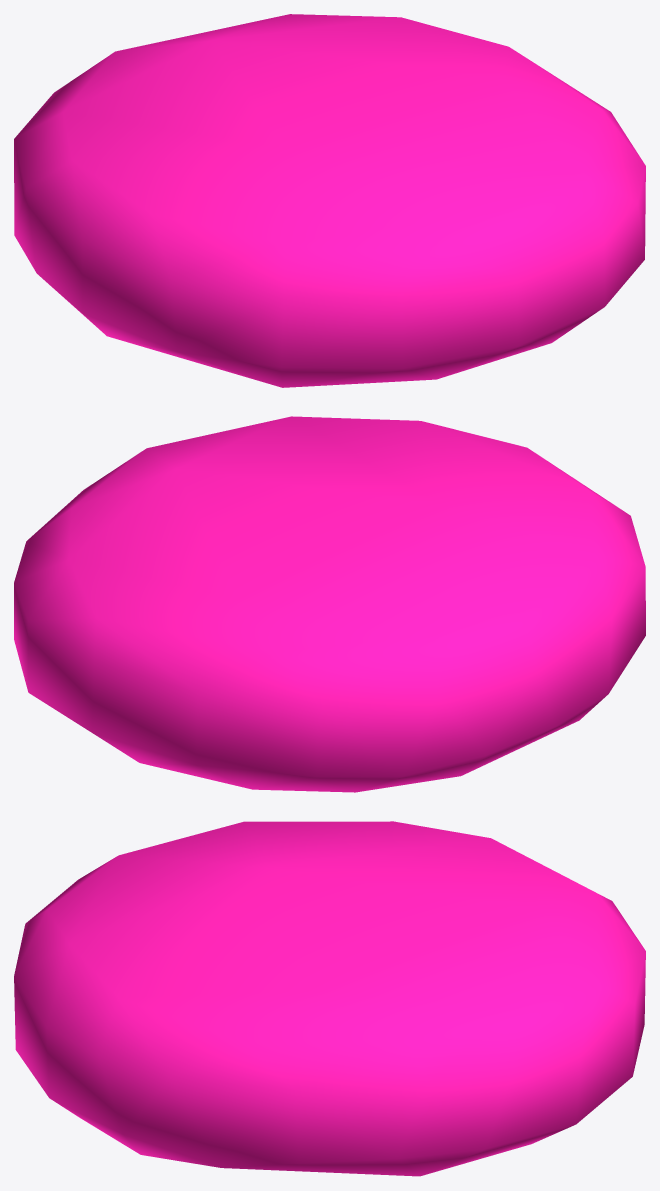
The model's file is Button.glb.
3 views of the same model, one above another, from view 1: azimuth 30°, elevation 25°; view 2: azimuth 150°, elevation 25°; view 3: azimuth 270°, elevation 25° (orthographic).
Visible parts, largest first — view 1: Button; view 2: Button; view 3: Button.
Boxes of the visible parts, x1,y1,x2,y2 form: Button: (14, 14, 645, 387); Button: (14, 416, 645, 792); Button: (14, 821, 645, 1176).
Size of what is drawn, in the model's own units: 1.76 by 0.6065 by 1.84.
